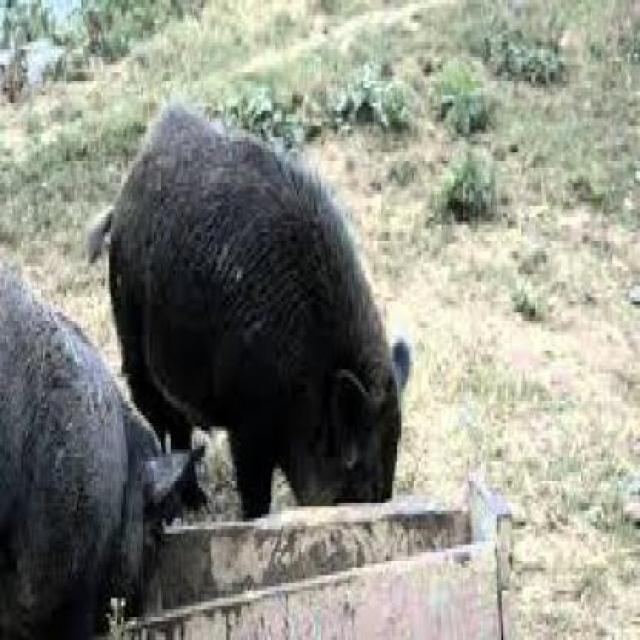wildboar: (78, 86, 414, 528), (0, 257, 211, 640)
